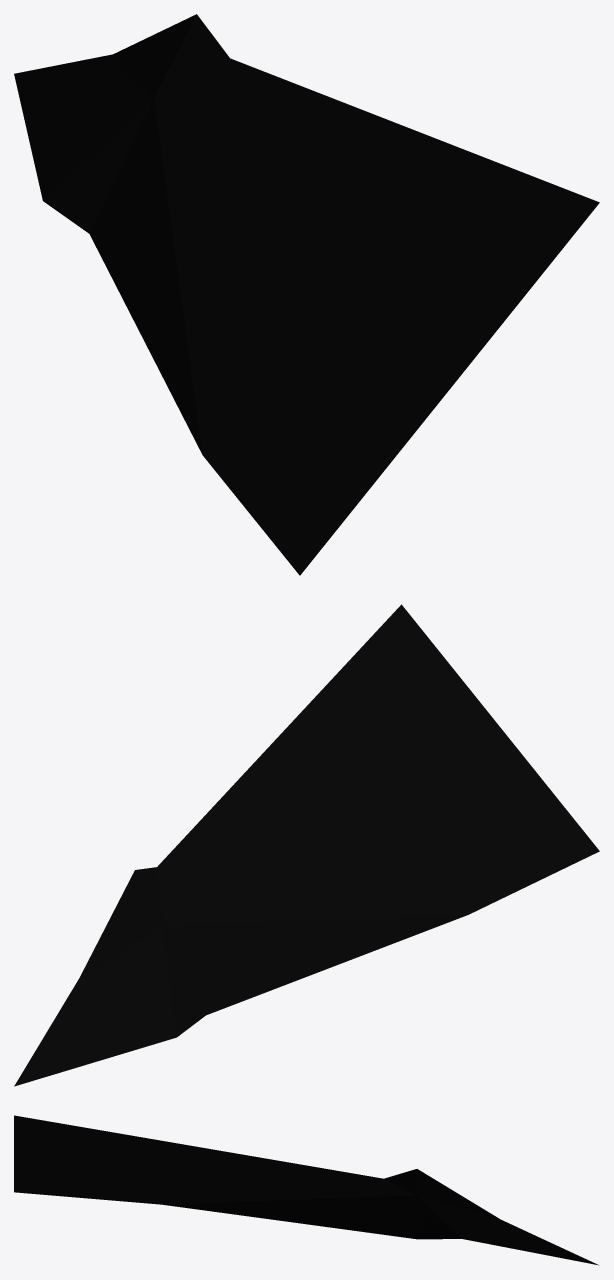
3 renders of one model, top to bottom at view 1: azimuth 30°, elevation 25°; view 2: azimuth 150°, elevation 25°; view 3: azimuth 270°, elevation 25°, orthographic. The views are drawn at different scales.
Size of the model in its own units: 0.142 by 0.1358 by 0.4805.
Materials: 1 (1 with a texture image).
